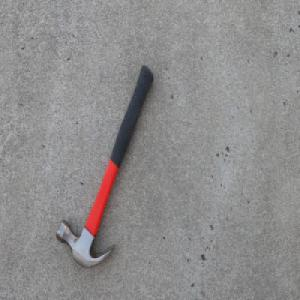Hammer: (55, 62, 153, 269)
